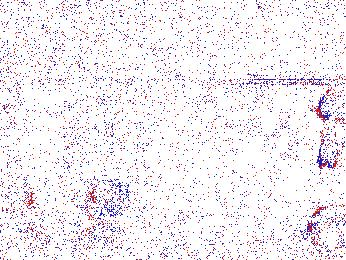flame jellyfish: (316, 83, 346, 168), (84, 178, 132, 223), (299, 204, 346, 249)
